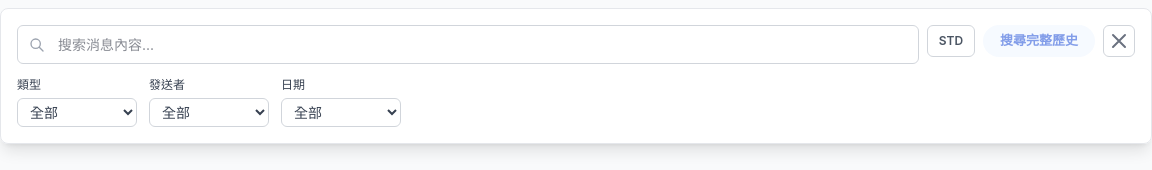
MessageSearch.vue › 收合/展開狀態 › 點擊關閉按鈕應收合面板
Click the button with class "close-search" at (1119, 41), box [1103, 25, 1135, 57]
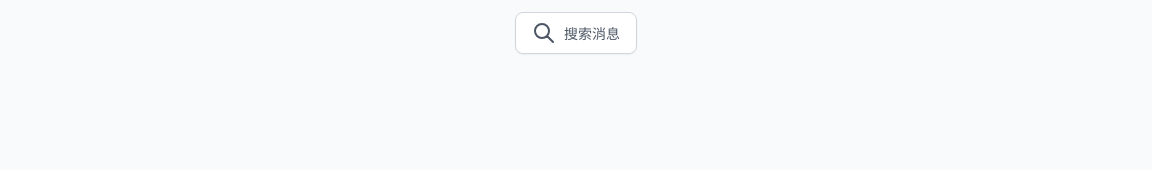
Expected: the element with class "search-trigger" is shown, [515, 12, 637, 54]
